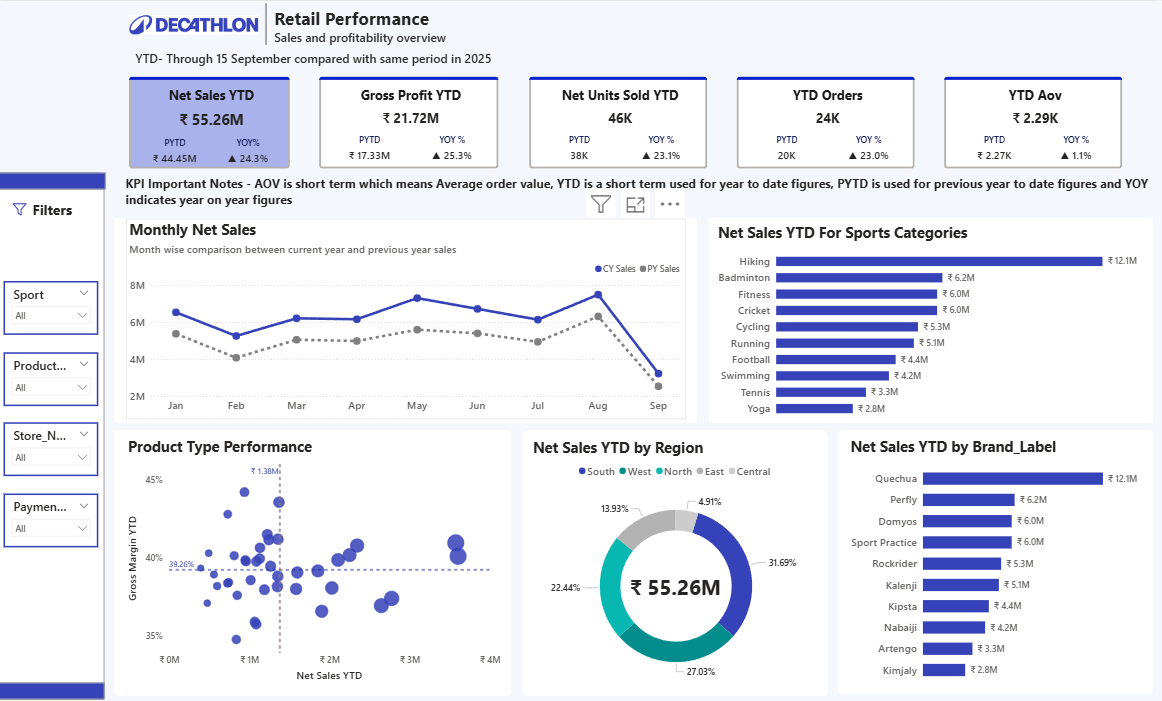

This screenshot's page, from the dashboard's own definition file:
{"tool":"powerbi","page":{"name":"Performance Overview","canvas":[1800,1080],"ordinal":0},"visuals":[{"type":"shape","box":[0,264.4,167.9,814.3],"z":0},{"type":"image","box":[201.1,1.9,208.9,69.6],"z":1000},{"type":"textbox","box":[425.4,3.9,353.9,79.3],"z":2000},{"type":"textbox","box":[210.8,71.6,585.9,52.2],"z":3000},{"type":"shape","box":[392.6,3.9,50.3,63.8],"z":4000},{"type":"cardVisual","fields":{"Data":["#measures.Net Sales YTD"]},"box":[200.7,111.9,258.6,152.4],"z":5000},{"type":"cardVisual","fields":{"Data":["#measures.Gross Profit YTD"]},"box":[494.5,111.9,287.5,152.4],"z":6000},{"type":"cardVisual","fields":{"Data":["#measures.Net Units Sold YTD"]},"box":[817.2,111.9,285.6,152.4],"z":7000},{"type":"cardVisual","fields":{"Data":["#measures.YTD Orders"]},"box":[1138,111.9,285.6,152.4],"z":8000},{"type":"cardVisual","fields":{"Data":["#measures.YTD Aov"]},"box":[1458.8,111.9,285.6,152.4],"z":9000},{"type":"textbox","box":[194.9,264.4,1592,65.6],"z":10000},{"type":"shape","box":[181.4,333.8,901.2,318.4],"z":11000},{"type":"lineChart","title":"Monthly Net Sales","fields":{"Category":["Date Table.Month"],"Y":["#measures.CY Sales","#measures.PY Sales"]},"box":[200.7,335.8,864.5,310.7],"z":12000},{"type":"shape","box":[1099.9,333.8,687,318.4],"z":13000},{"type":"barChart","title":"Net Sales YTD For Sports Categories","fields":{"Category":["products.Sport"],"Y":["#measures.Net Sales YTD"]},"box":[1109.6,341.6,667.7,310.7],"z":14000},{"type":"shape","box":[182.2,661.6,614.2,411.9],"z":15000},{"type":"scatterChart","title":"Product Type Performance","fields":{"Category":["products.Product_Type"],"X":["#measures.Net Sales YTD"],"Y":["#measures.Gross Margin YTD"],"Size":["#measures.Net Sales YTD"]},"box":[198.8,671.5,584.7,384],"z":16000},{"type":"shape","box":[812.8,661.6,472,411.9],"z":17000},{"type":"donutChart","fields":{"Category":["store.Region"],"Y":["#measures.Net Sales YTD"]},"box":[823.8,674.3,452,397.3],"z":18000},{"type":"card","fields":{"Values":["#measures.Net Sales YTD"]},"box":[972.6,866.4,152.4,77.2],"z":19000},{"type":"shape","box":[1298.7,661.9,488.2,409.1],"z":20000},{"type":"barChart","fields":{"Category":["products.Brand_Label"],"Y":["#measures.Net Sales YTD"]},"box":[1314.1,671.5,459.3,389.8],"z":20001},{"type":"shape","box":[1.9,264.4,167.9,27],"z":20002},{"type":"slicer","fields":{"Values":["products.Sport"]},"box":[11.6,432.2,146.7,83],"z":20003},{"type":"slicer","fields":{"Values":["products.Product_Tier"]},"box":[11.6,541.6,146.7,83],"z":20004},{"type":"slicer","fields":{"Values":["store.Store_Name"]},"box":[11.6,650.9,146.7,83],"z":20005},{"type":"slicer","fields":{"Values":["sales.Payment_Method"]},"box":[11.6,760.3,146.7,83],"z":20006},{"type":"image","box":[11.6,303,50.2,38.6],"z":20007},{"type":"textbox","box":[44.4,303,84.9,48.2],"z":20008},{"type":"shape","box":[0,1052,168.2,27.1],"z":20009}]}

Visuals, with their boxes in screenshot pixels (x1, y1, x2, y2), scaled from the page's 1800x1080 canvas onto the 1162x701 screenshot:
shape: region(0, 172, 108, 700)
image: region(130, 1, 265, 46)
textbox: region(275, 3, 503, 54)
textbox: region(136, 46, 514, 80)
shape: region(253, 3, 286, 44)
cardVisual - #measures.Net Sales YTD: region(130, 73, 297, 172)
cardVisual - #measures.Gross Profit YTD: region(319, 73, 505, 172)
cardVisual - #measures.Net Units Sold YTD: region(528, 73, 712, 172)
cardVisual - #measures.YTD Orders: region(735, 73, 919, 172)
cardVisual - #measures.YTD Aov: region(942, 73, 1126, 172)
textbox: region(126, 172, 1154, 214)
shape: region(117, 217, 699, 423)
"Monthly Net Sales" lineChart: region(130, 218, 688, 420)
shape: region(710, 217, 1154, 423)
"Net Sales YTD For Sports Categories" barChart: region(716, 222, 1147, 423)
shape: region(118, 429, 514, 697)
"Product Type Performance" scatterChart: region(128, 436, 506, 685)
shape: region(525, 429, 829, 697)
donutChart - store.Region x #measures.Net Sales YTD: region(532, 438, 824, 696)
card - #measures.Net Sales YTD: region(628, 562, 726, 612)
shape: region(838, 430, 1154, 695)
barChart - products.Brand_Label x #measures.Net Sales YTD: region(848, 436, 1145, 689)
shape: region(1, 172, 110, 189)
slicer - products.Sport: region(7, 281, 102, 334)
slicer - products.Product_Tier: region(7, 352, 102, 405)
slicer - store.Store_Name: region(7, 422, 102, 476)
slicer - sales.Payment_Method: region(7, 493, 102, 547)
image: region(7, 197, 40, 222)
textbox: region(29, 197, 83, 228)
shape: region(0, 683, 109, 700)
